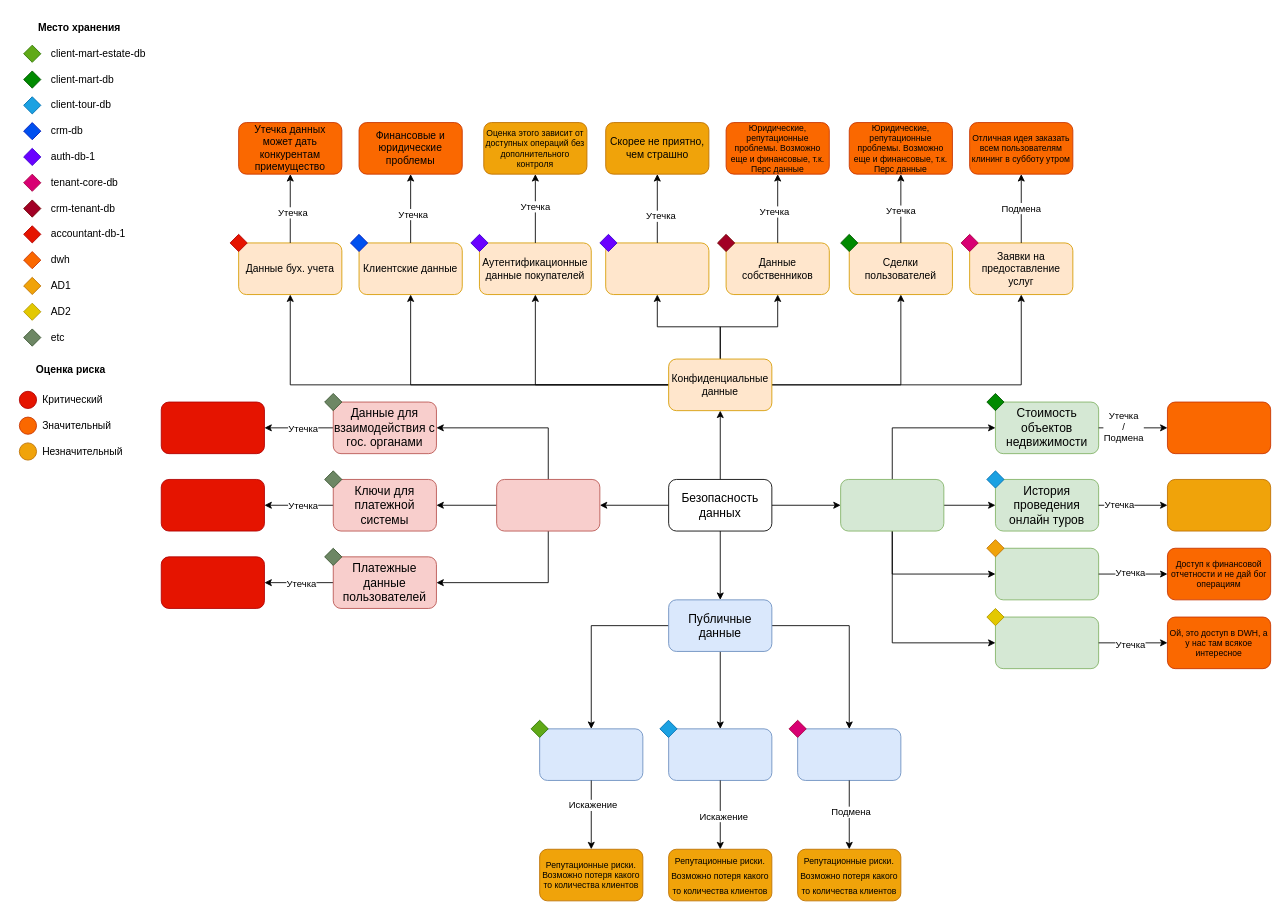
Some shapes in this 1286 by 916 pixel diagram are drawn without their labels. The shapes that lost their labels are listed below. From the top down, each one's box as (x1, y1, x2, y2) in pixels, then its label:
(605, 242, 709, 295): История доступа в систему
(160, 401, 264, 454): Утечка может привести к произвольному оформлению сделок пользователей
(1167, 401, 1271, 454): Утечка - не сильно страшно, а вот подмена отлично попортит заключение сделок
(160, 479, 264, 531): Утечка может привести к выводу средств мошенниками
(496, 479, 600, 531): Секретные данные
(840, 479, 944, 531): Внутренние данные
(1167, 479, 1271, 531): Возможно какие то репутационные риски
(160, 556, 264, 608): Утечка может привести к суду
(995, 547, 1099, 600): Аутентификационные данные бухгалтеров
(995, 616, 1099, 669): Аутентификационные данные аналитиков
(539, 728, 643, 780): Информация об объектах недвижимости
(668, 728, 772, 780): Онлайн туры
(797, 728, 901, 780): Список услуг ЖКХ
